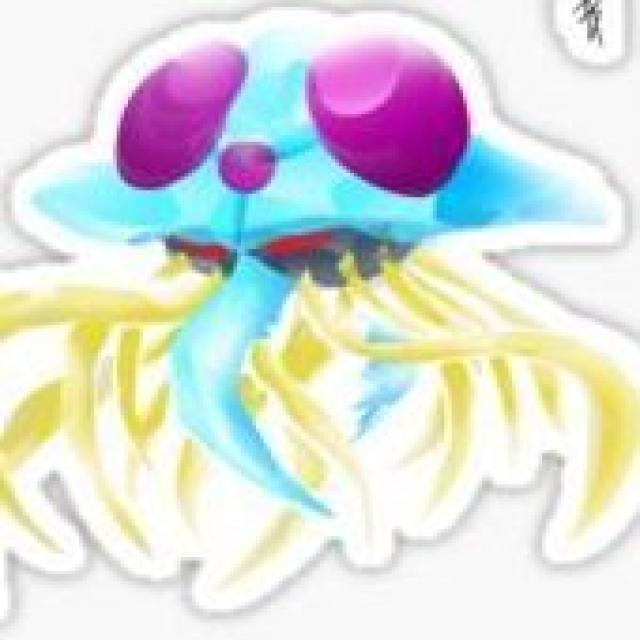Tentacruel: (68, 28, 506, 456)
